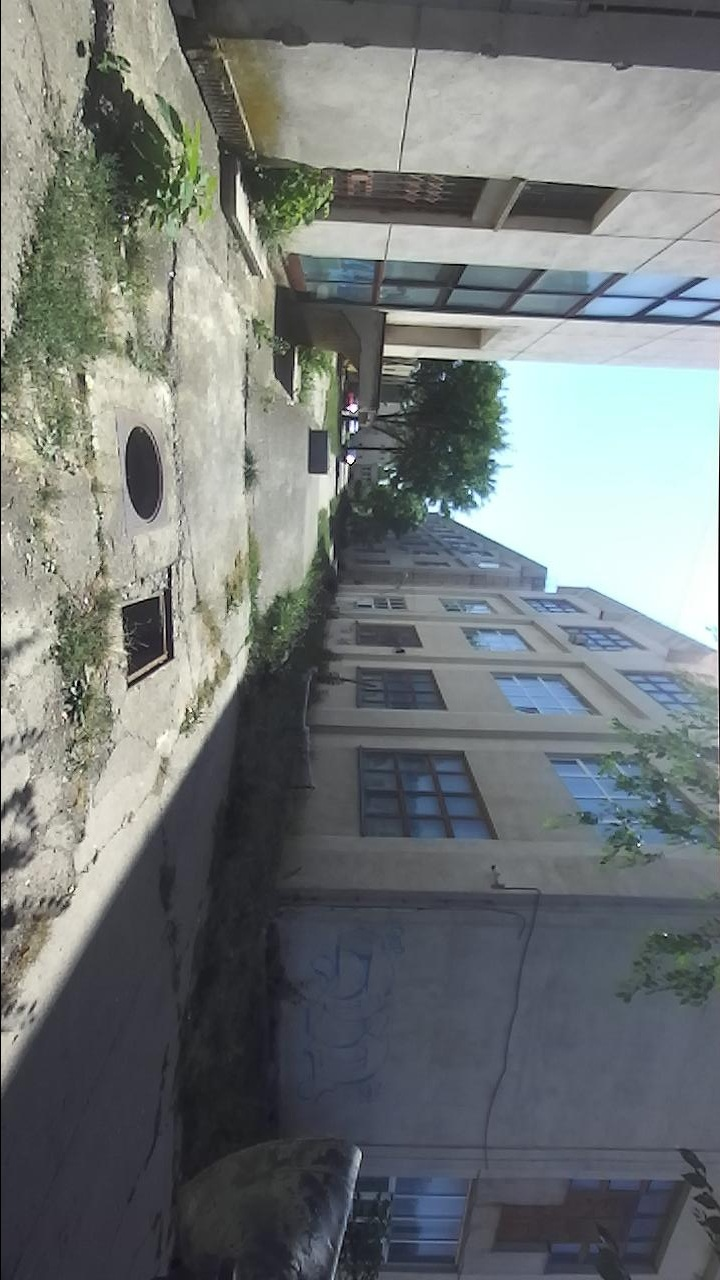drain: (119, 581, 178, 694), (120, 416, 168, 532)
